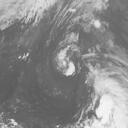cyclone: (53, 46, 81, 78)
